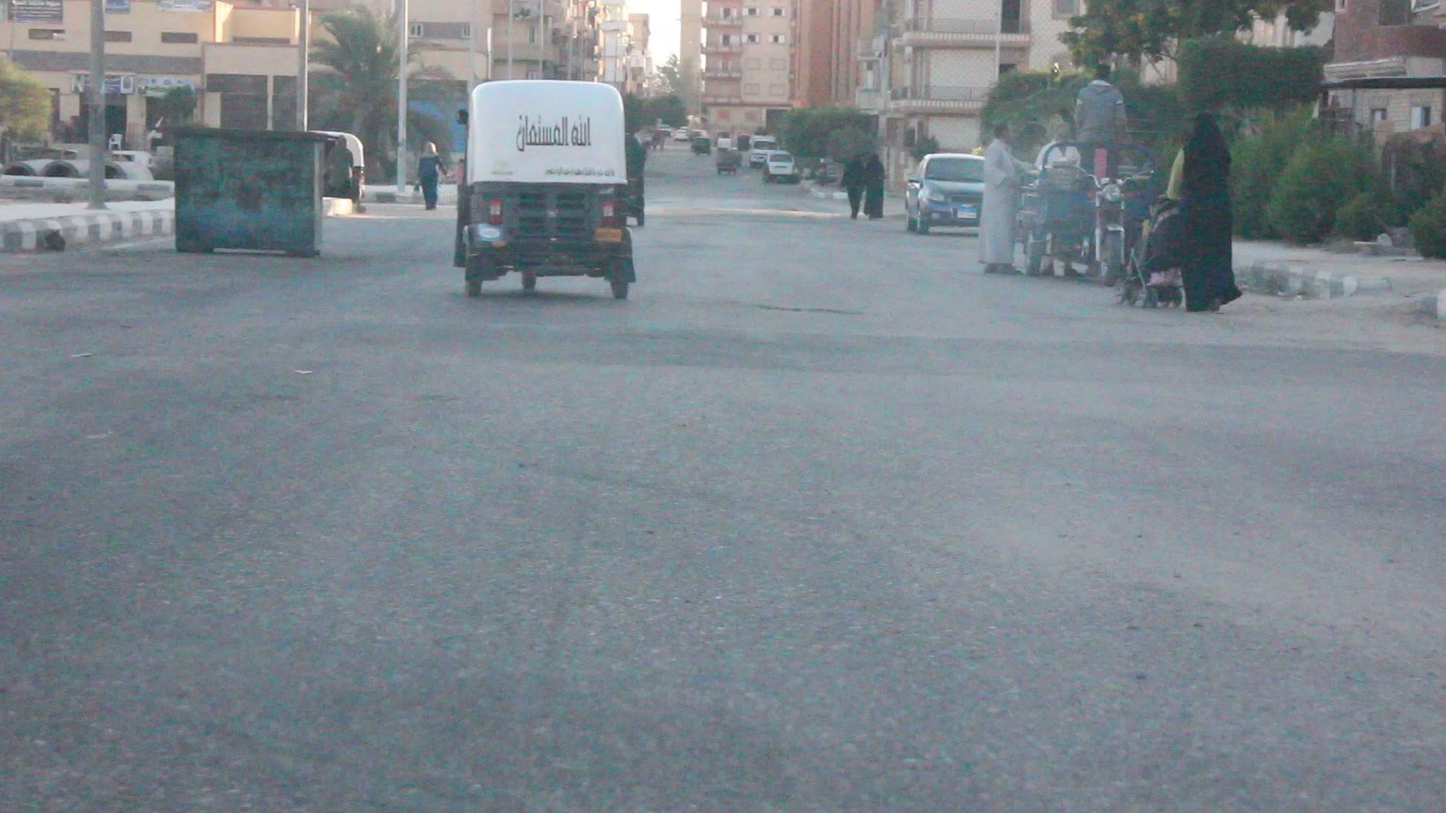Bump: (284, 292, 1446, 406)
